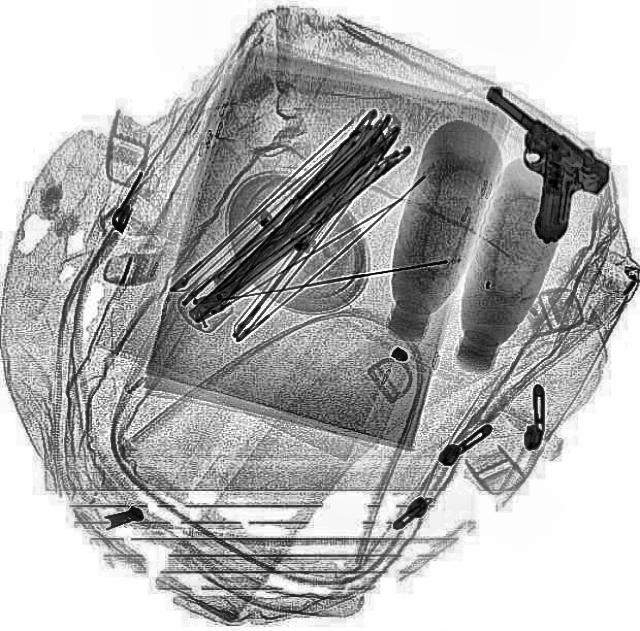Gun: (426, 78, 620, 247)
